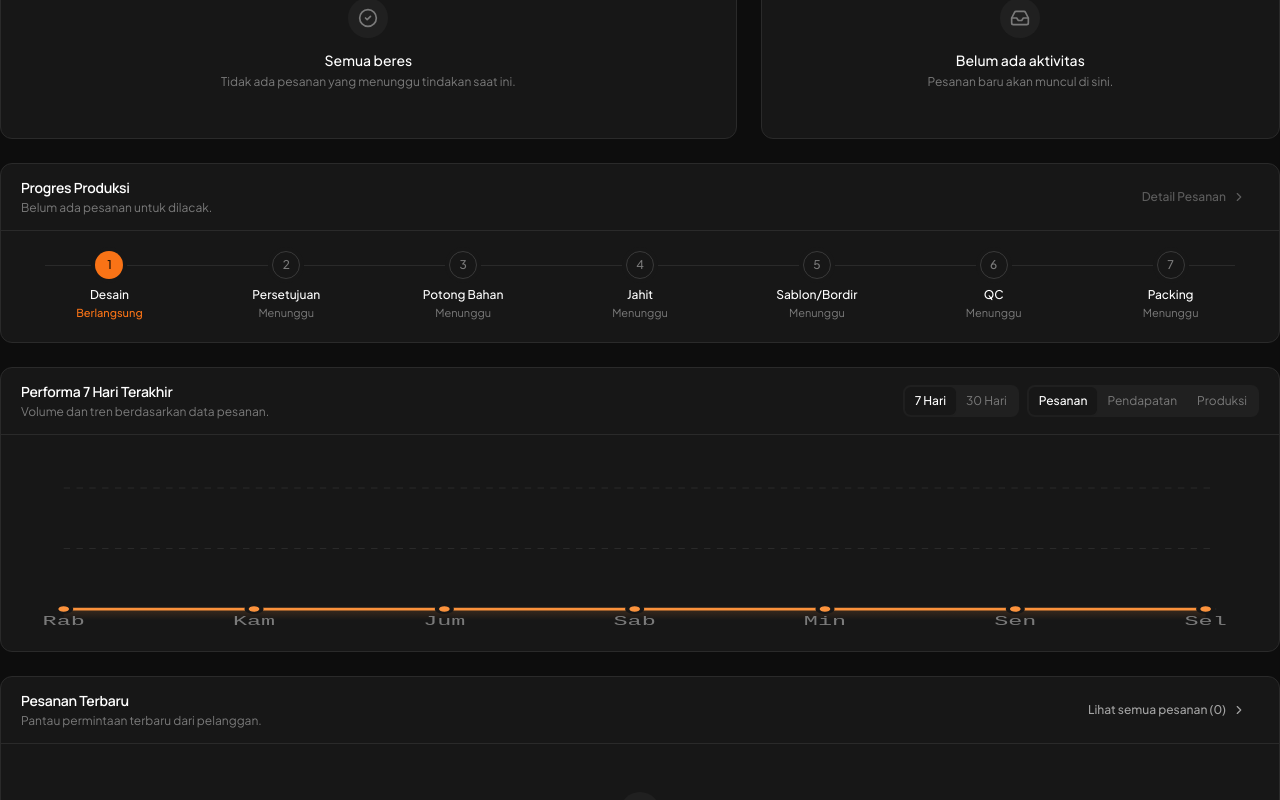
Test case: DashboardView - chart › switches between 7 and 30 day ranges
The width and height of the screenshot is (1280, 800).
(page scrolled)
Expected: the heading "Performa 7 Hari Terakhir" is shown, [21,382,173,400]
Click the button "30 Hari" at (986, 400), box [956,386,1017,414]
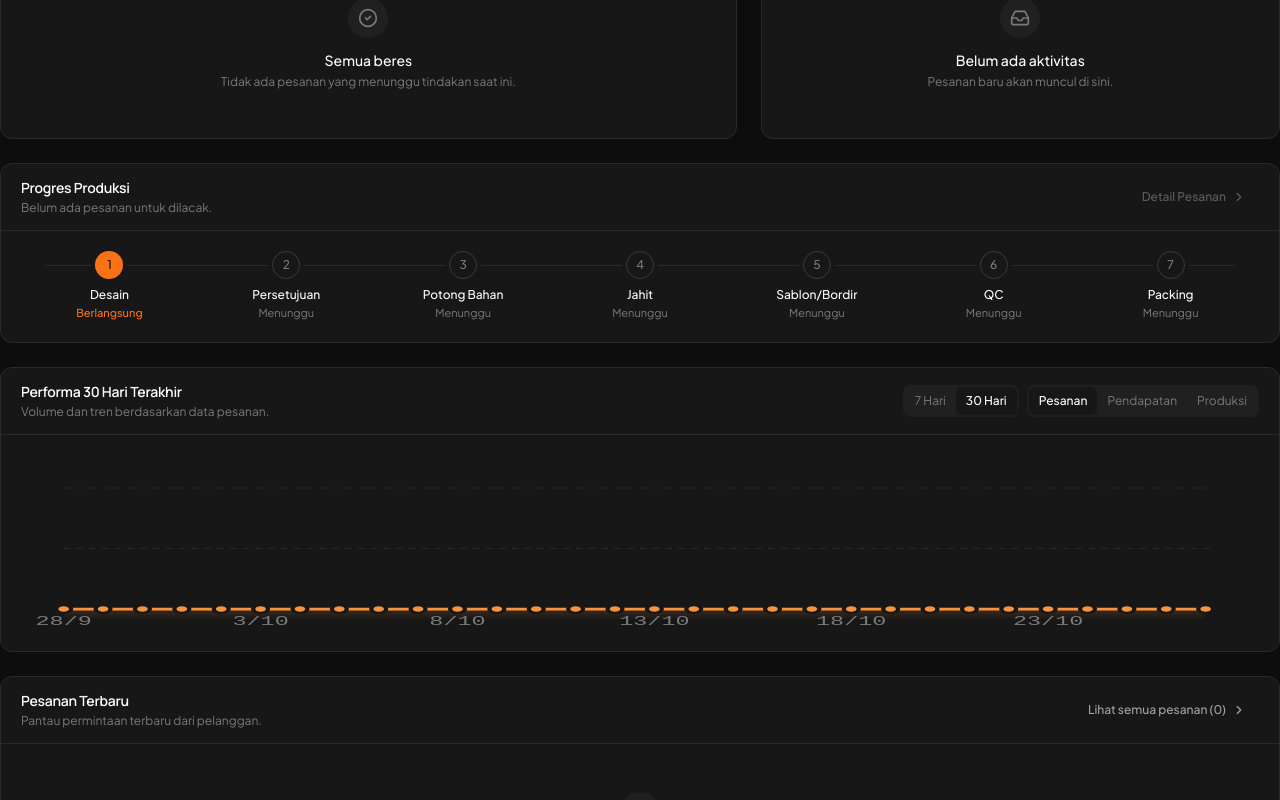
Now the heading "Performa 30 Hari Terakhir" is shown, box [21,382,182,400]
Click the button "7 Hari" at (930, 400), box [905,386,956,414]
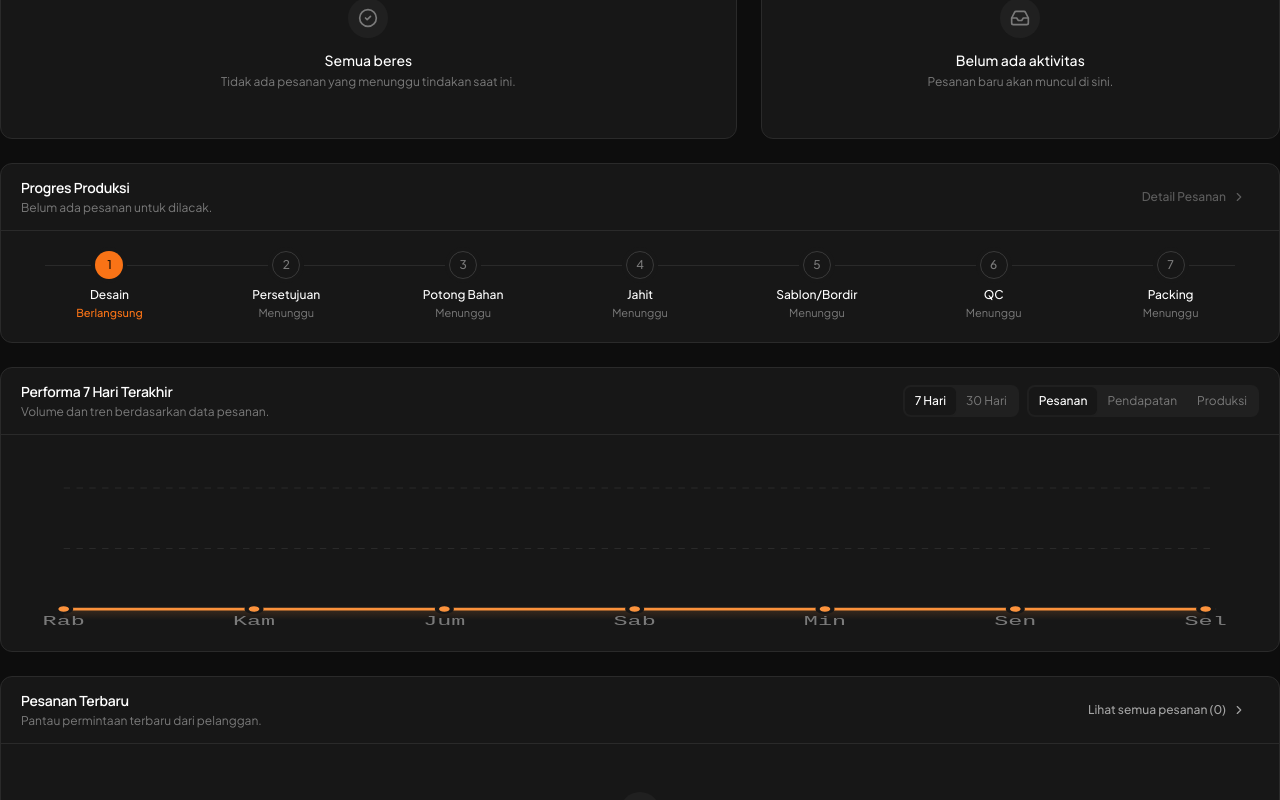
Now the heading "Performa 7 Hari Terakhir" is shown, box [21,382,173,400]
